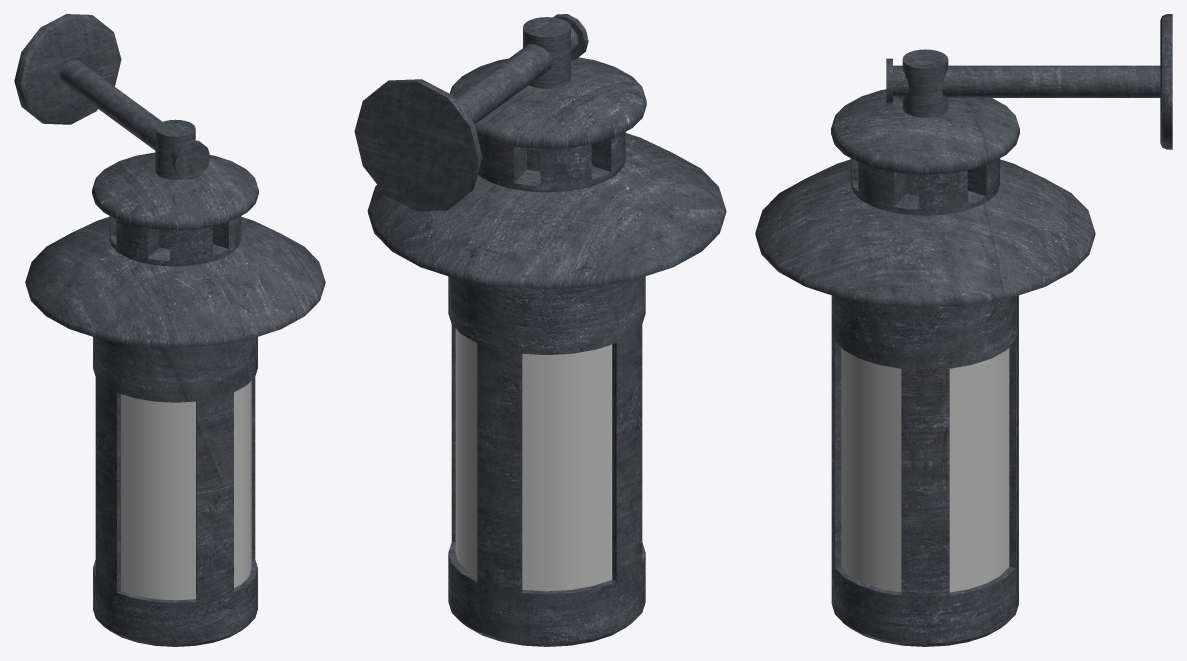
Rendered from lamp.fbx.
3 views of the same model, side by side, from view 1: azimuth 30°, elevation 25°; view 2: azimuth 150°, elevation 25°; view 3: azimuth 270°, elevation 25° (orthographic). The views are drawn at different scales.
Parts seen in each view (by area): view 1: Mesh; view 2: Mesh; view 3: Mesh.
Boxes of the visible parts, x1,y1,x2,y2 form: Mesh: (14, 14, 325, 646); Mesh: (354, 14, 726, 646); Mesh: (755, 14, 1172, 646).
Bounding box in the file's own units: 59.28 × 113 × 72.72.
